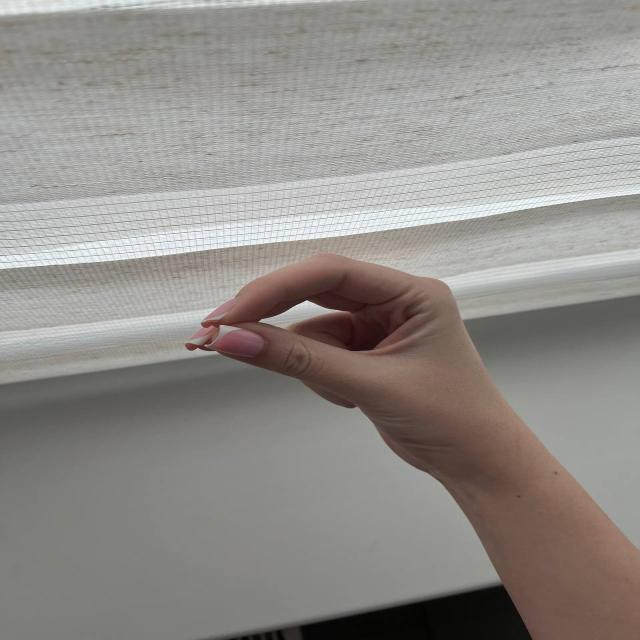ch: (162, 242, 540, 460)
